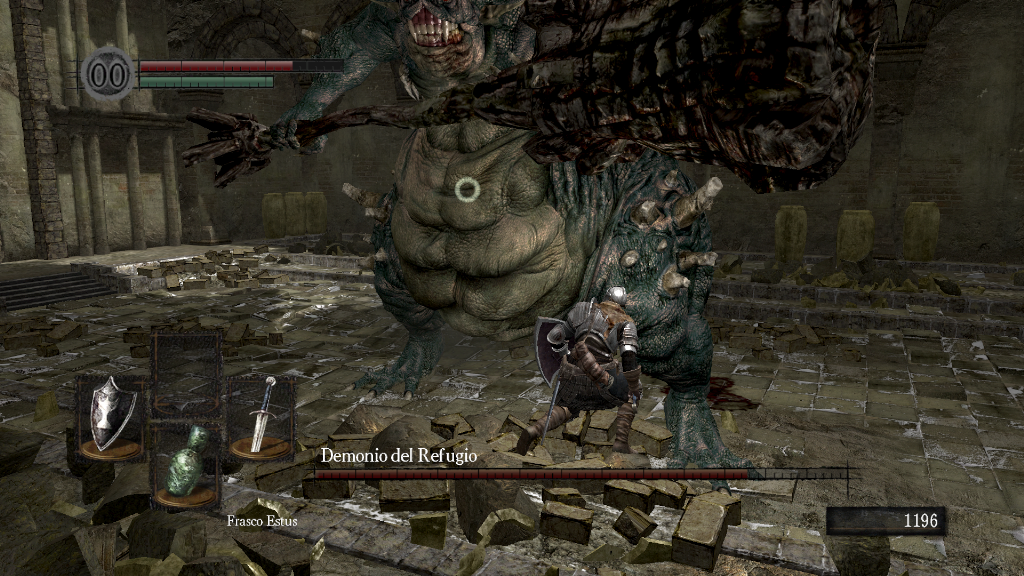asylumDemon: (178, 1, 878, 497)
bossHP: (314, 469, 847, 479)
health: (138, 58, 343, 71)
humanity: (80, 45, 136, 102)
player: (534, 284, 646, 456)
souls: (825, 506, 945, 536)
stamina: (138, 74, 274, 88)
